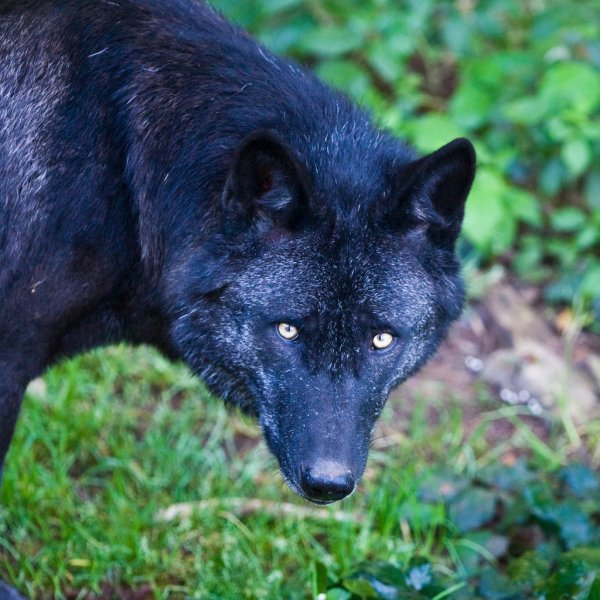Lobo: (189, 131, 477, 521)
